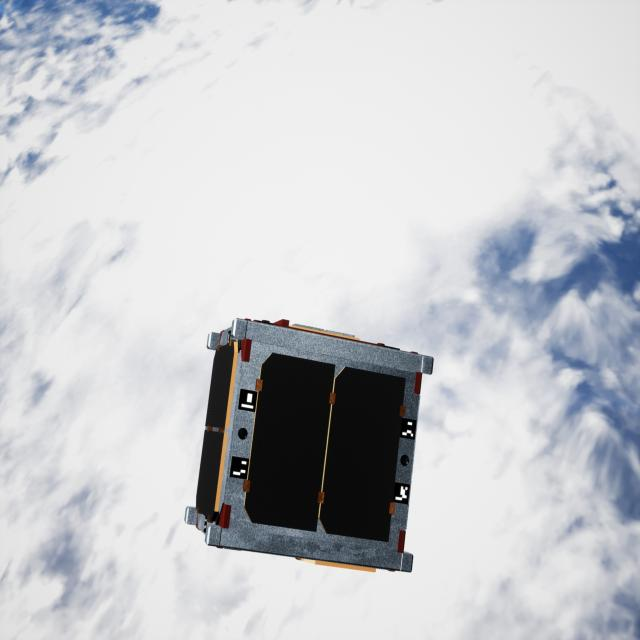satellite: (180, 317, 442, 580)
